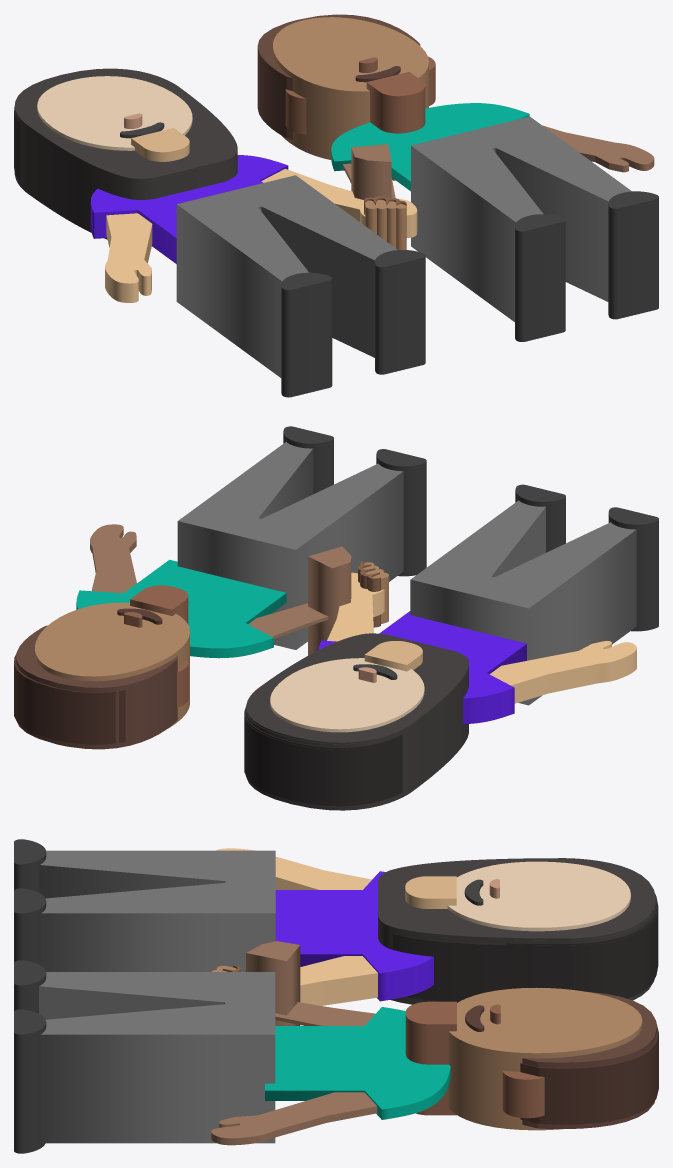
The model's file is emoji_u1f469_1f3fb_200d_1f91d_200d_1f468_1f3fd.glb.
3 renders of one model, top to bottom at view 1: azimuth 30°, elevation 25°; view 2: azimuth 150°, elevation 25°; view 3: azimuth 270°, elevation 25°, orthographic. The views are drawn at different scales.
Visible parts, largest first — view 1: emoji_u1f469_1f3fb_200d_1f91d_200d_1f468_1f3fd; view 2: emoji_u1f469_1f3fb_200d_1f91d_200d_1f468_1f3fd; view 3: emoji_u1f469_1f3fb_200d_1f91d_200d_1f468_1f3fd.
Part boxes in pixels (x1=…): emoji_u1f469_1f3fb_200d_1f91d_200d_1f468_1f3fd: x1=14, y1=14, x2=658, y2=397; emoji_u1f469_1f3fb_200d_1f91d_200d_1f468_1f3fd: x1=14, y1=426, x2=658, y2=810; emoji_u1f469_1f3fb_200d_1f91d_200d_1f468_1f3fd: x1=14, y1=839, x2=658, y2=1153.
Size of the model in its own units: 0.0346 by 0.0068 by 0.0334.
